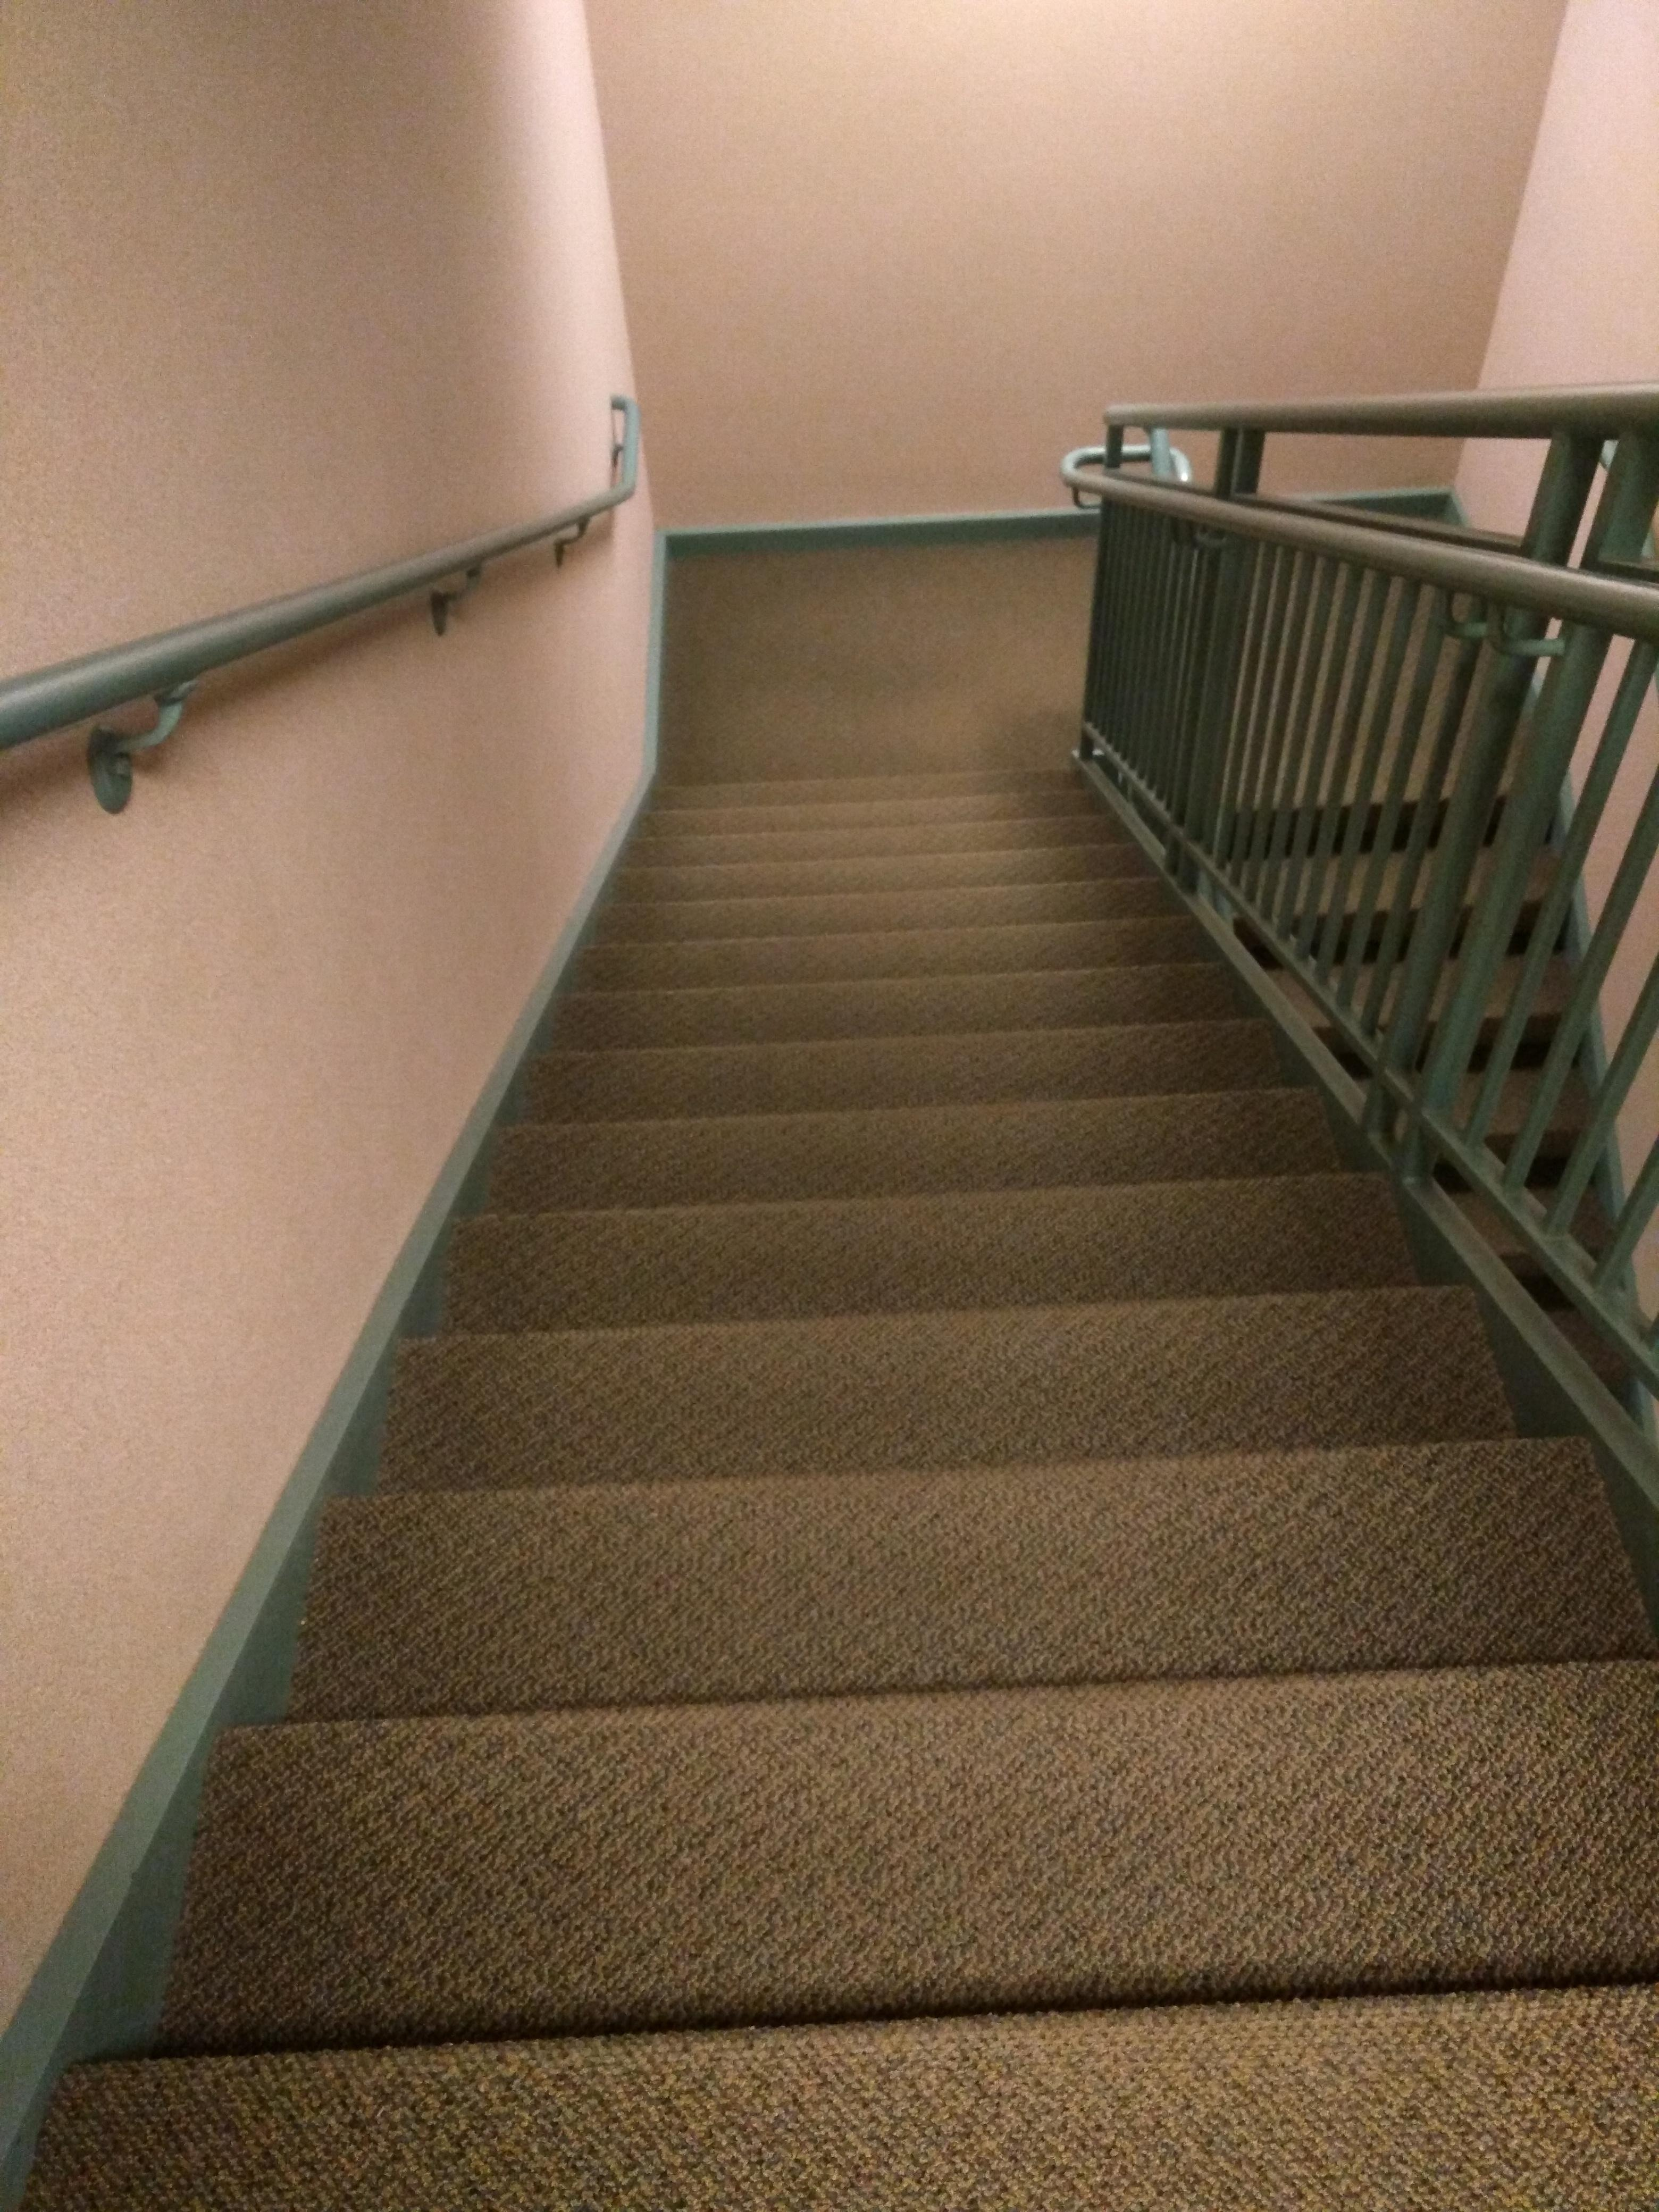stairs_down: (73, 761, 1659, 2015)
